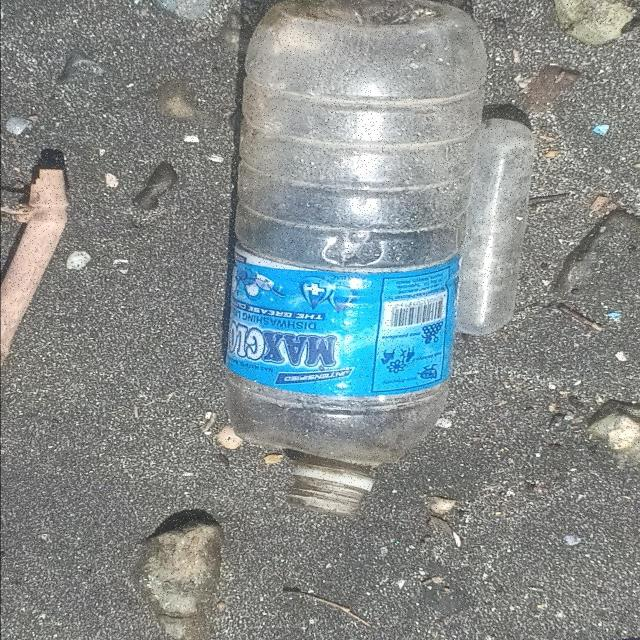plastic_waste: (220, 1, 490, 522)
